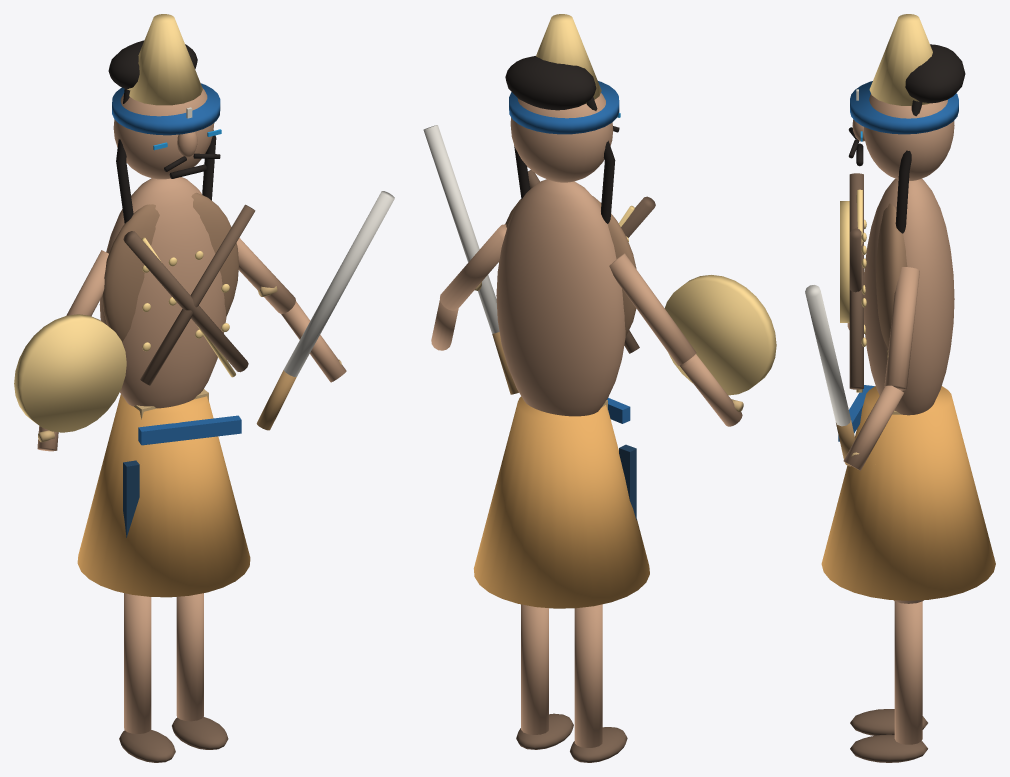
File: pandava-royal-commander.glb
3 renders of one model, left to right at view 1: azimuth 30°, elevation 25°; view 2: azimuth 150°, elevation 25°; view 3: azimuth 270°, elevation 25°, orthographic.
Parts seen in each view (by area): view 1: layered dhoti cloth, torso muscle shape, round shield, chest leather armor, royal crown, head, shin, shin.001, sword blade, front leather harness one, headband, front leather harness two (+10 smaller); view 2: layered dhoti cloth, torso muscle shape, round shield, head, shin, hair bun, shin.001, left upper arm, sword blade, headband, royal crown, right upper arm (+8 smaller); view 3: layered dhoti cloth, torso muscle shape, head, shin.001, royal crown, right upper arm, chest leather armor, headband, hair bun, sword blade, front leather harness one, right forearm (+7 smaller).
Boxes of the visible parts, x1,y1,x2,y2 form: layered dhoti cloth: (77,389,250,597); torso muscle shape: (99,177,226,408); round shield: (14,314,126,432); chest leather armor: (102,192,238,342); royal crown: (127,14,202,105); head: (113,88,214,179); shin: (124,593,151,733); shin.001: (176,593,203,721); sword blade: (284,191,394,376); front leather harness one: (123,231,248,372); headband: (112,83,220,135); front leather harness two: (140,204,255,385); layered dhoti cloth: (473,396,649,608); torso muscle shape: (496,179,625,416); round shield: (664,275,776,395); head: (510,93,613,182); shin: (574,604,602,747); hair bun: (505,56,596,110); shin.001: (521,604,548,734); left upper arm: (609,253,696,365); sword blade: (423,125,499,333); headband: (509,81,619,134); royal crown: (536,14,601,103); right upper arm: (440,224,506,310); layered dhoti cloth: (821,386,995,600); torso muscle shape: (863,178,954,415); head: (864,94,954,180); shin.001: (894,601,922,744); royal crown: (869,14,932,105); right upper arm: (884,267,919,390); chest leather armor: (876,203,907,349); headband: (850,81,958,134); hair bun: (905,44,965,103); sword blade: (805,285,850,426); front leather harness one: (849,173,863,389); right forearm: (843,385,903,470).
Bounding box in the file's own units: 1.03 × 1.99 × 0.4728.
